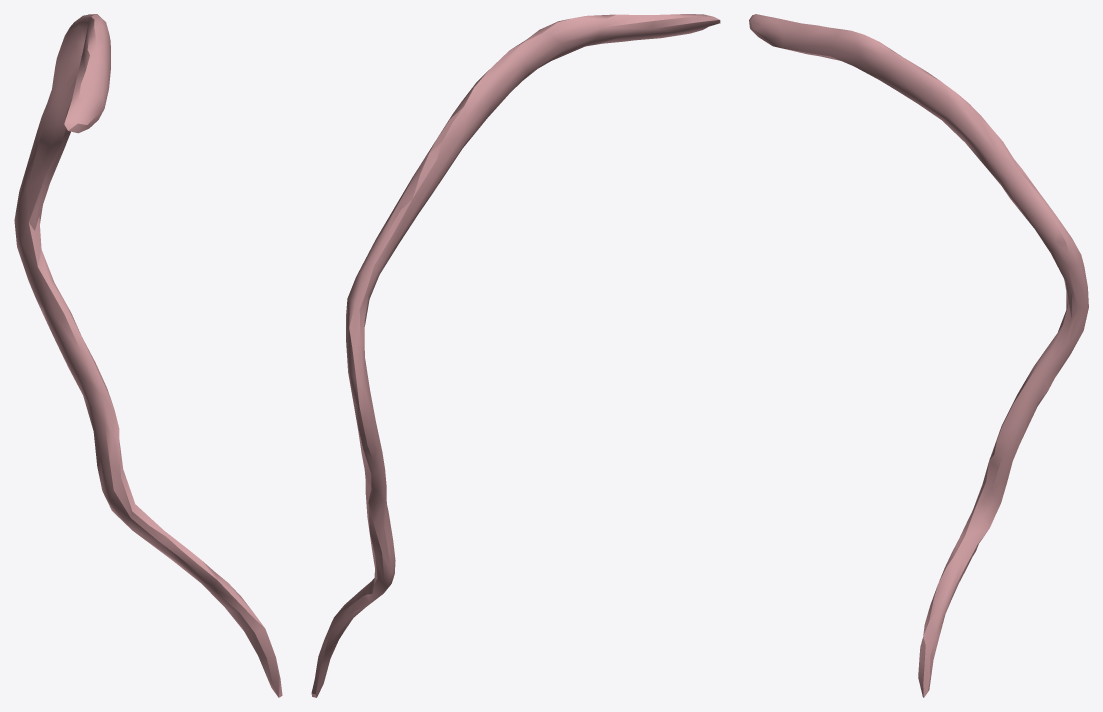
File: fma9480_mm585.glb
The picture shows the model from 3 angles, left to right: view 1: azimuth 30°, elevation 25°; view 2: azimuth 150°, elevation 25°; view 3: azimuth 270°, elevation 25°; orthographic projection. The views are drawn at different scales.
Parts seen in each view (by area): view 1: FMA9480_MM585; view 2: FMA9480_MM585; view 3: FMA9480_MM585.
Boxes of the visible parts, x1,y1,x2,y2 form: FMA9480_MM585: [14, 14, 282, 697]; FMA9480_MM585: [311, 14, 720, 697]; FMA9480_MM585: [749, 14, 1088, 697].
Size of the model in its own units: 0.0205 by 0.045 by 0.0239.
